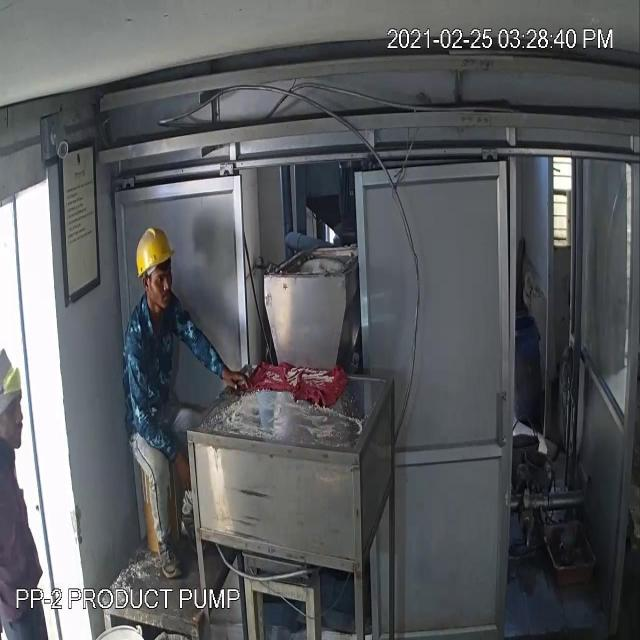helmet: (134, 218, 178, 276)
